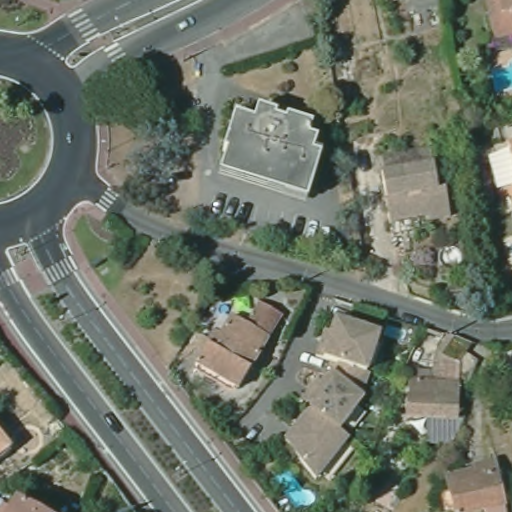pool: (271, 471, 316, 505), (492, 57, 512, 100), (218, 303, 233, 315)
